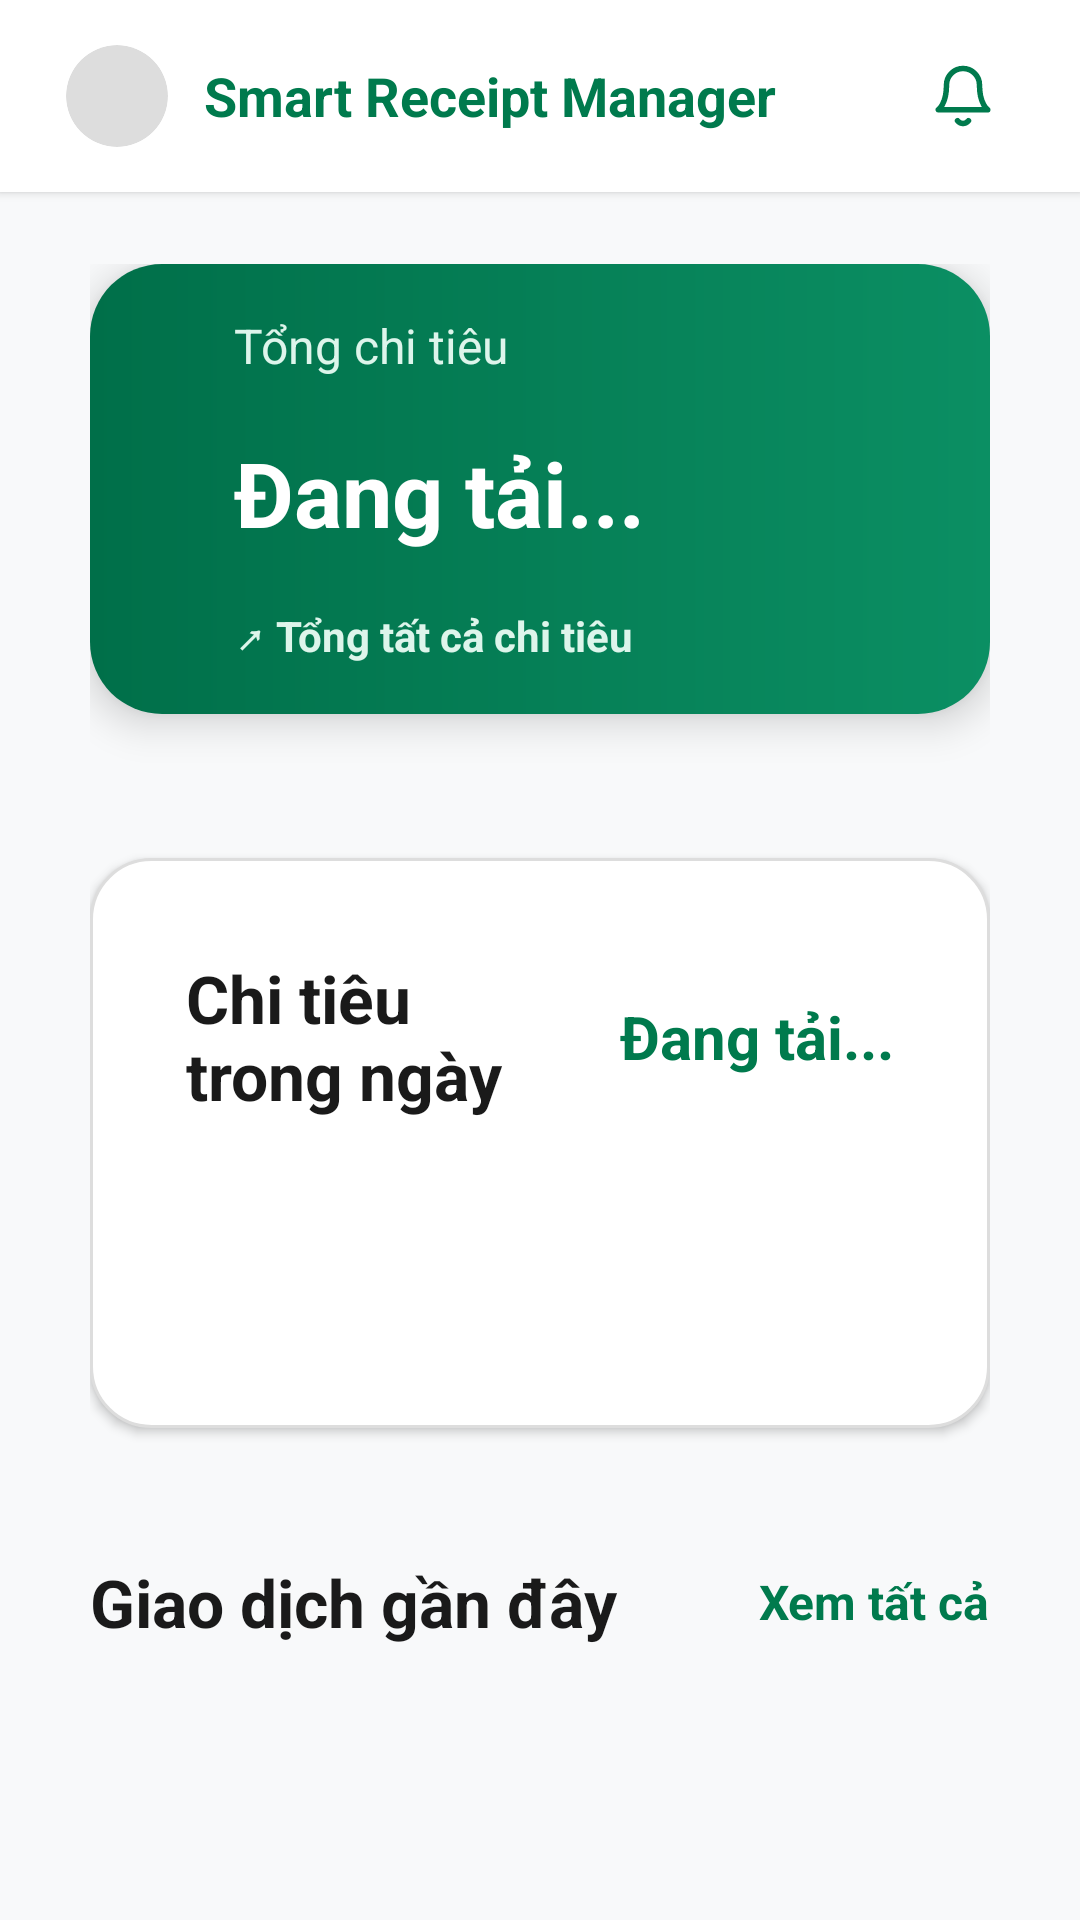

Icons on this 1080x1920 Android screen, each with the point to tap as point (x, y):
Thông báo: point (963, 96)
